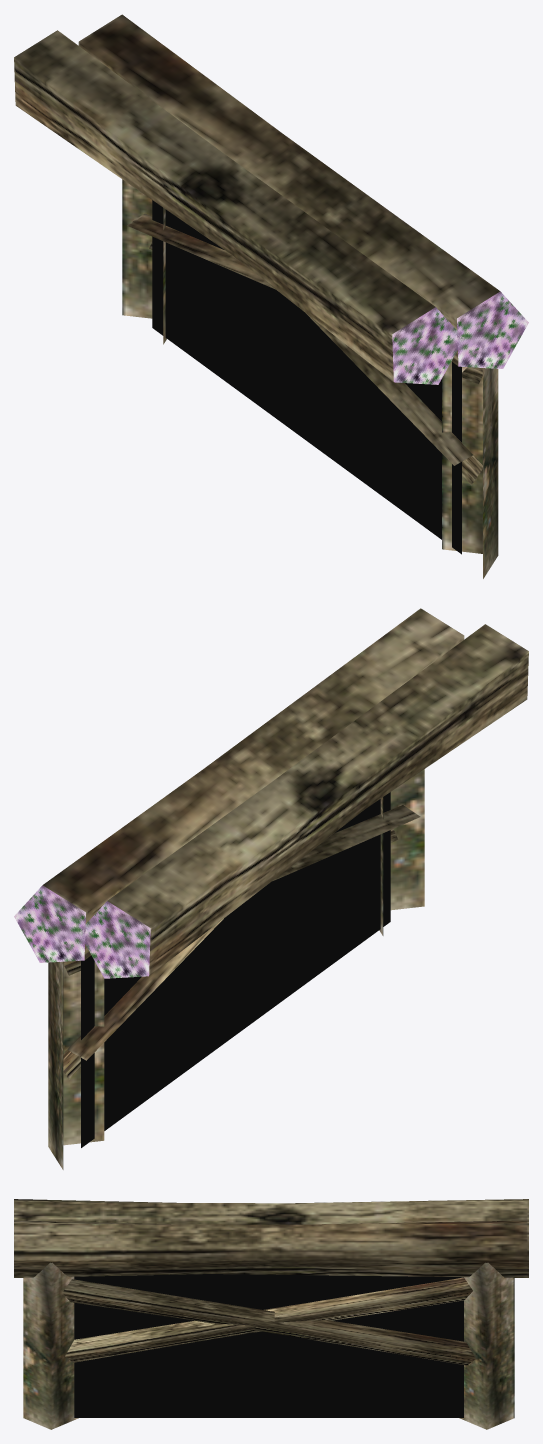
Rendered from BridgeStone01.obj.
3 renders of one model, top to bottom at view 1: azimuth 30°, elevation 25°; view 2: azimuth 150°, elevation 25°; view 3: azimuth 270°, elevation 25°, orthographic. The views are drawn at different scales.
Visible parts, largest first — view 1: Mesh_1, Mesh_3, Mesh_2, Mesh_0; view 2: Mesh_1, Mesh_3, Mesh_2, Mesh_0; view 3: Mesh_1, Mesh_3, Mesh_2.
Boxes of the visible parts, bbox=[...] form: Mesh_1: bbox=[14, 14, 499, 485]; Mesh_3: bbox=[152, 200, 461, 554]; Mesh_2: bbox=[122, 179, 498, 578]; Mesh_0: bbox=[392, 291, 528, 384]; Mesh_1: bbox=[43, 608, 528, 1079]; Mesh_3: bbox=[81, 792, 390, 1147]; Mesh_2: bbox=[48, 769, 424, 1169]; Mesh_0: bbox=[14, 885, 150, 978]; Mesh_1: bbox=[14, 1199, 528, 1365]; Mesh_3: bbox=[74, 1274, 463, 1417]; Mesh_2: bbox=[23, 1262, 514, 1429].
Size of the model in its own units: 0.8352 by 1.7 by 4.
4 materials, 4 textured.
